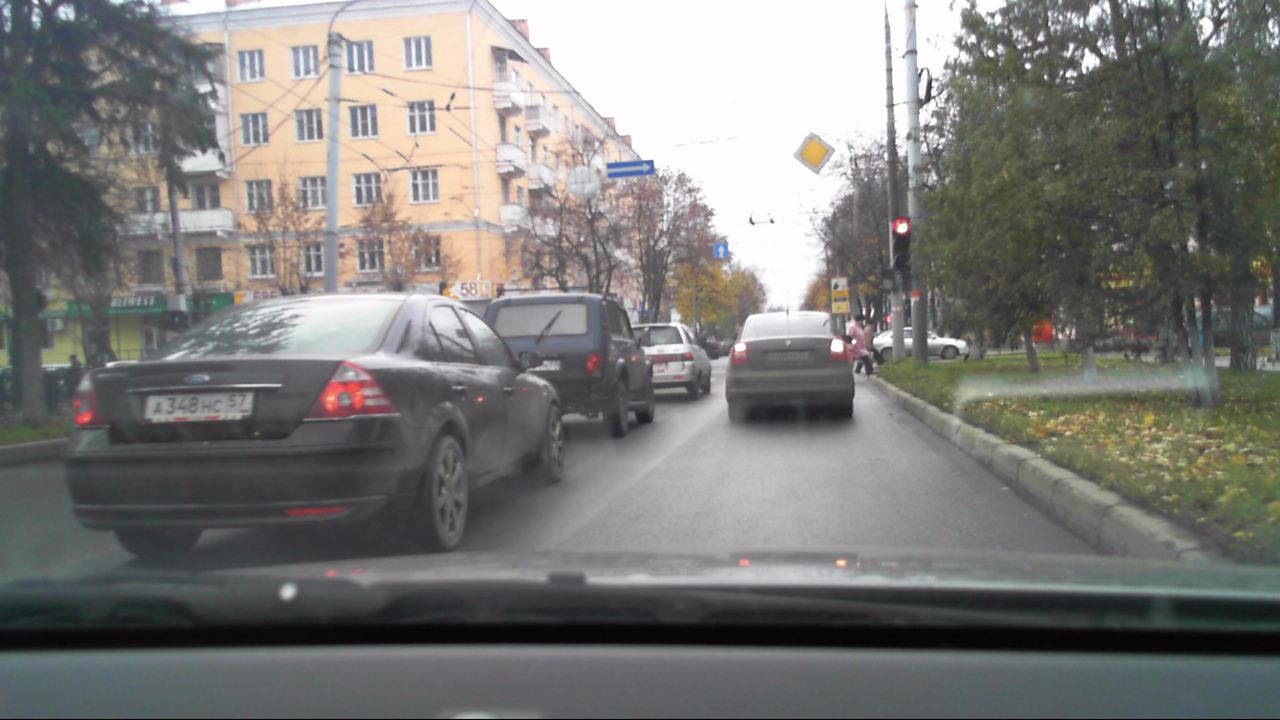One-Way Traffic: (606, 160, 654, 179)
